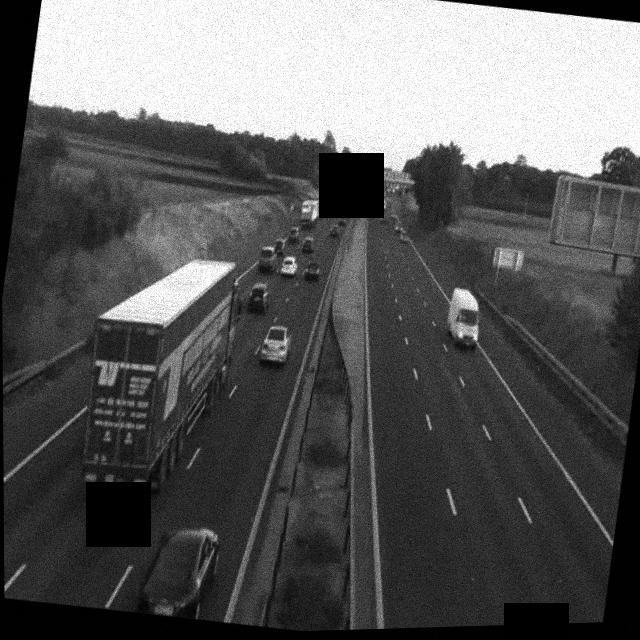bus: (298, 195, 320, 228)
car: (136, 521, 223, 623), (259, 323, 292, 368), (246, 282, 269, 314), (258, 244, 277, 271), (276, 247, 295, 274), (303, 258, 322, 281), (300, 233, 317, 255), (284, 226, 300, 248), (328, 222, 340, 238), (398, 229, 410, 244), (391, 219, 401, 234), (381, 214, 390, 226)
truck: (71, 244, 245, 510)
